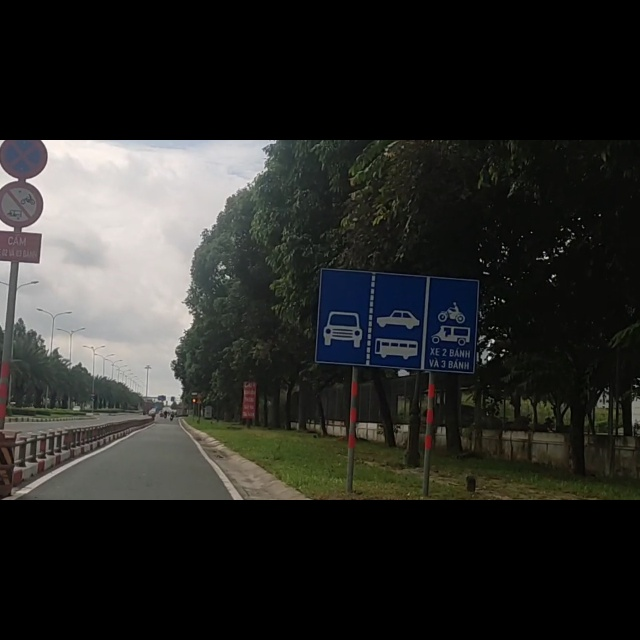bien_chi_dan: (318, 235, 475, 417)
